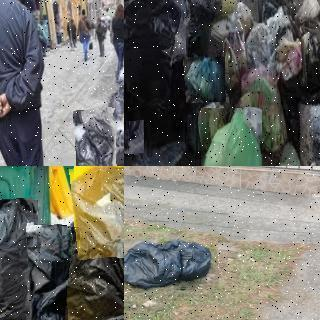Garbage: (124, 0, 189, 119), (48, 227, 124, 320), (124, 237, 218, 291), (0, 198, 40, 320), (71, 166, 124, 258), (28, 224, 69, 320), (282, 65, 320, 166), (199, 107, 263, 166), (74, 109, 117, 166), (124, 54, 146, 154), (184, 57, 226, 103), (185, 0, 236, 19), (104, 83, 124, 124), (112, 65, 124, 100)
